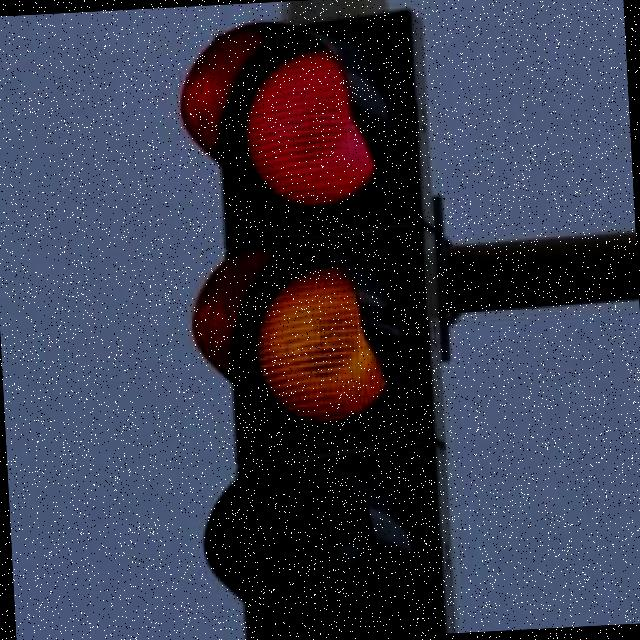Zolte swiatlo: (185, 14, 456, 640)
